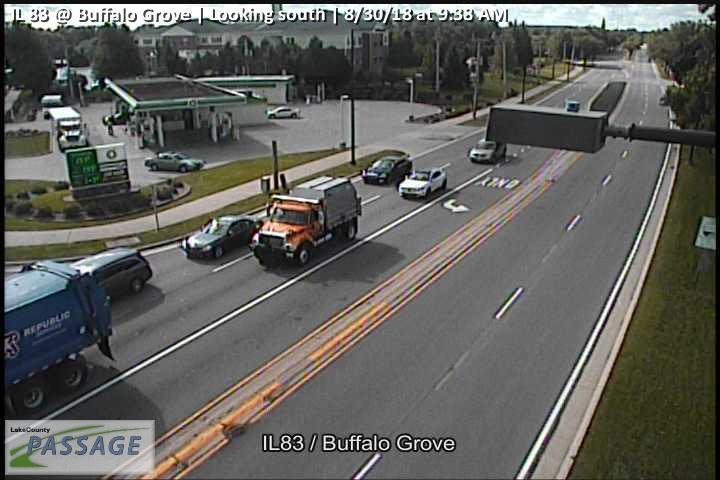SUV: (72, 246, 152, 297)
Sedan: (183, 213, 265, 262), (397, 166, 448, 199), (363, 156, 414, 185), (146, 150, 206, 174), (467, 138, 506, 164)
Truck: (3, 260, 119, 414), (247, 175, 363, 267), (47, 107, 89, 155)
